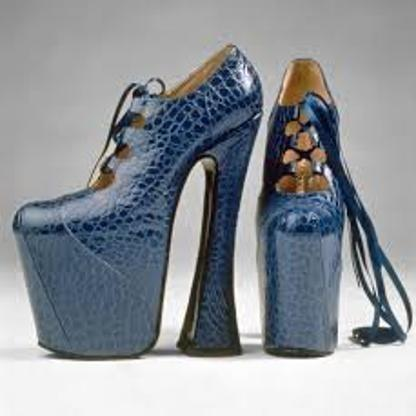not trash: (14, 42, 266, 358), (258, 53, 410, 356)
